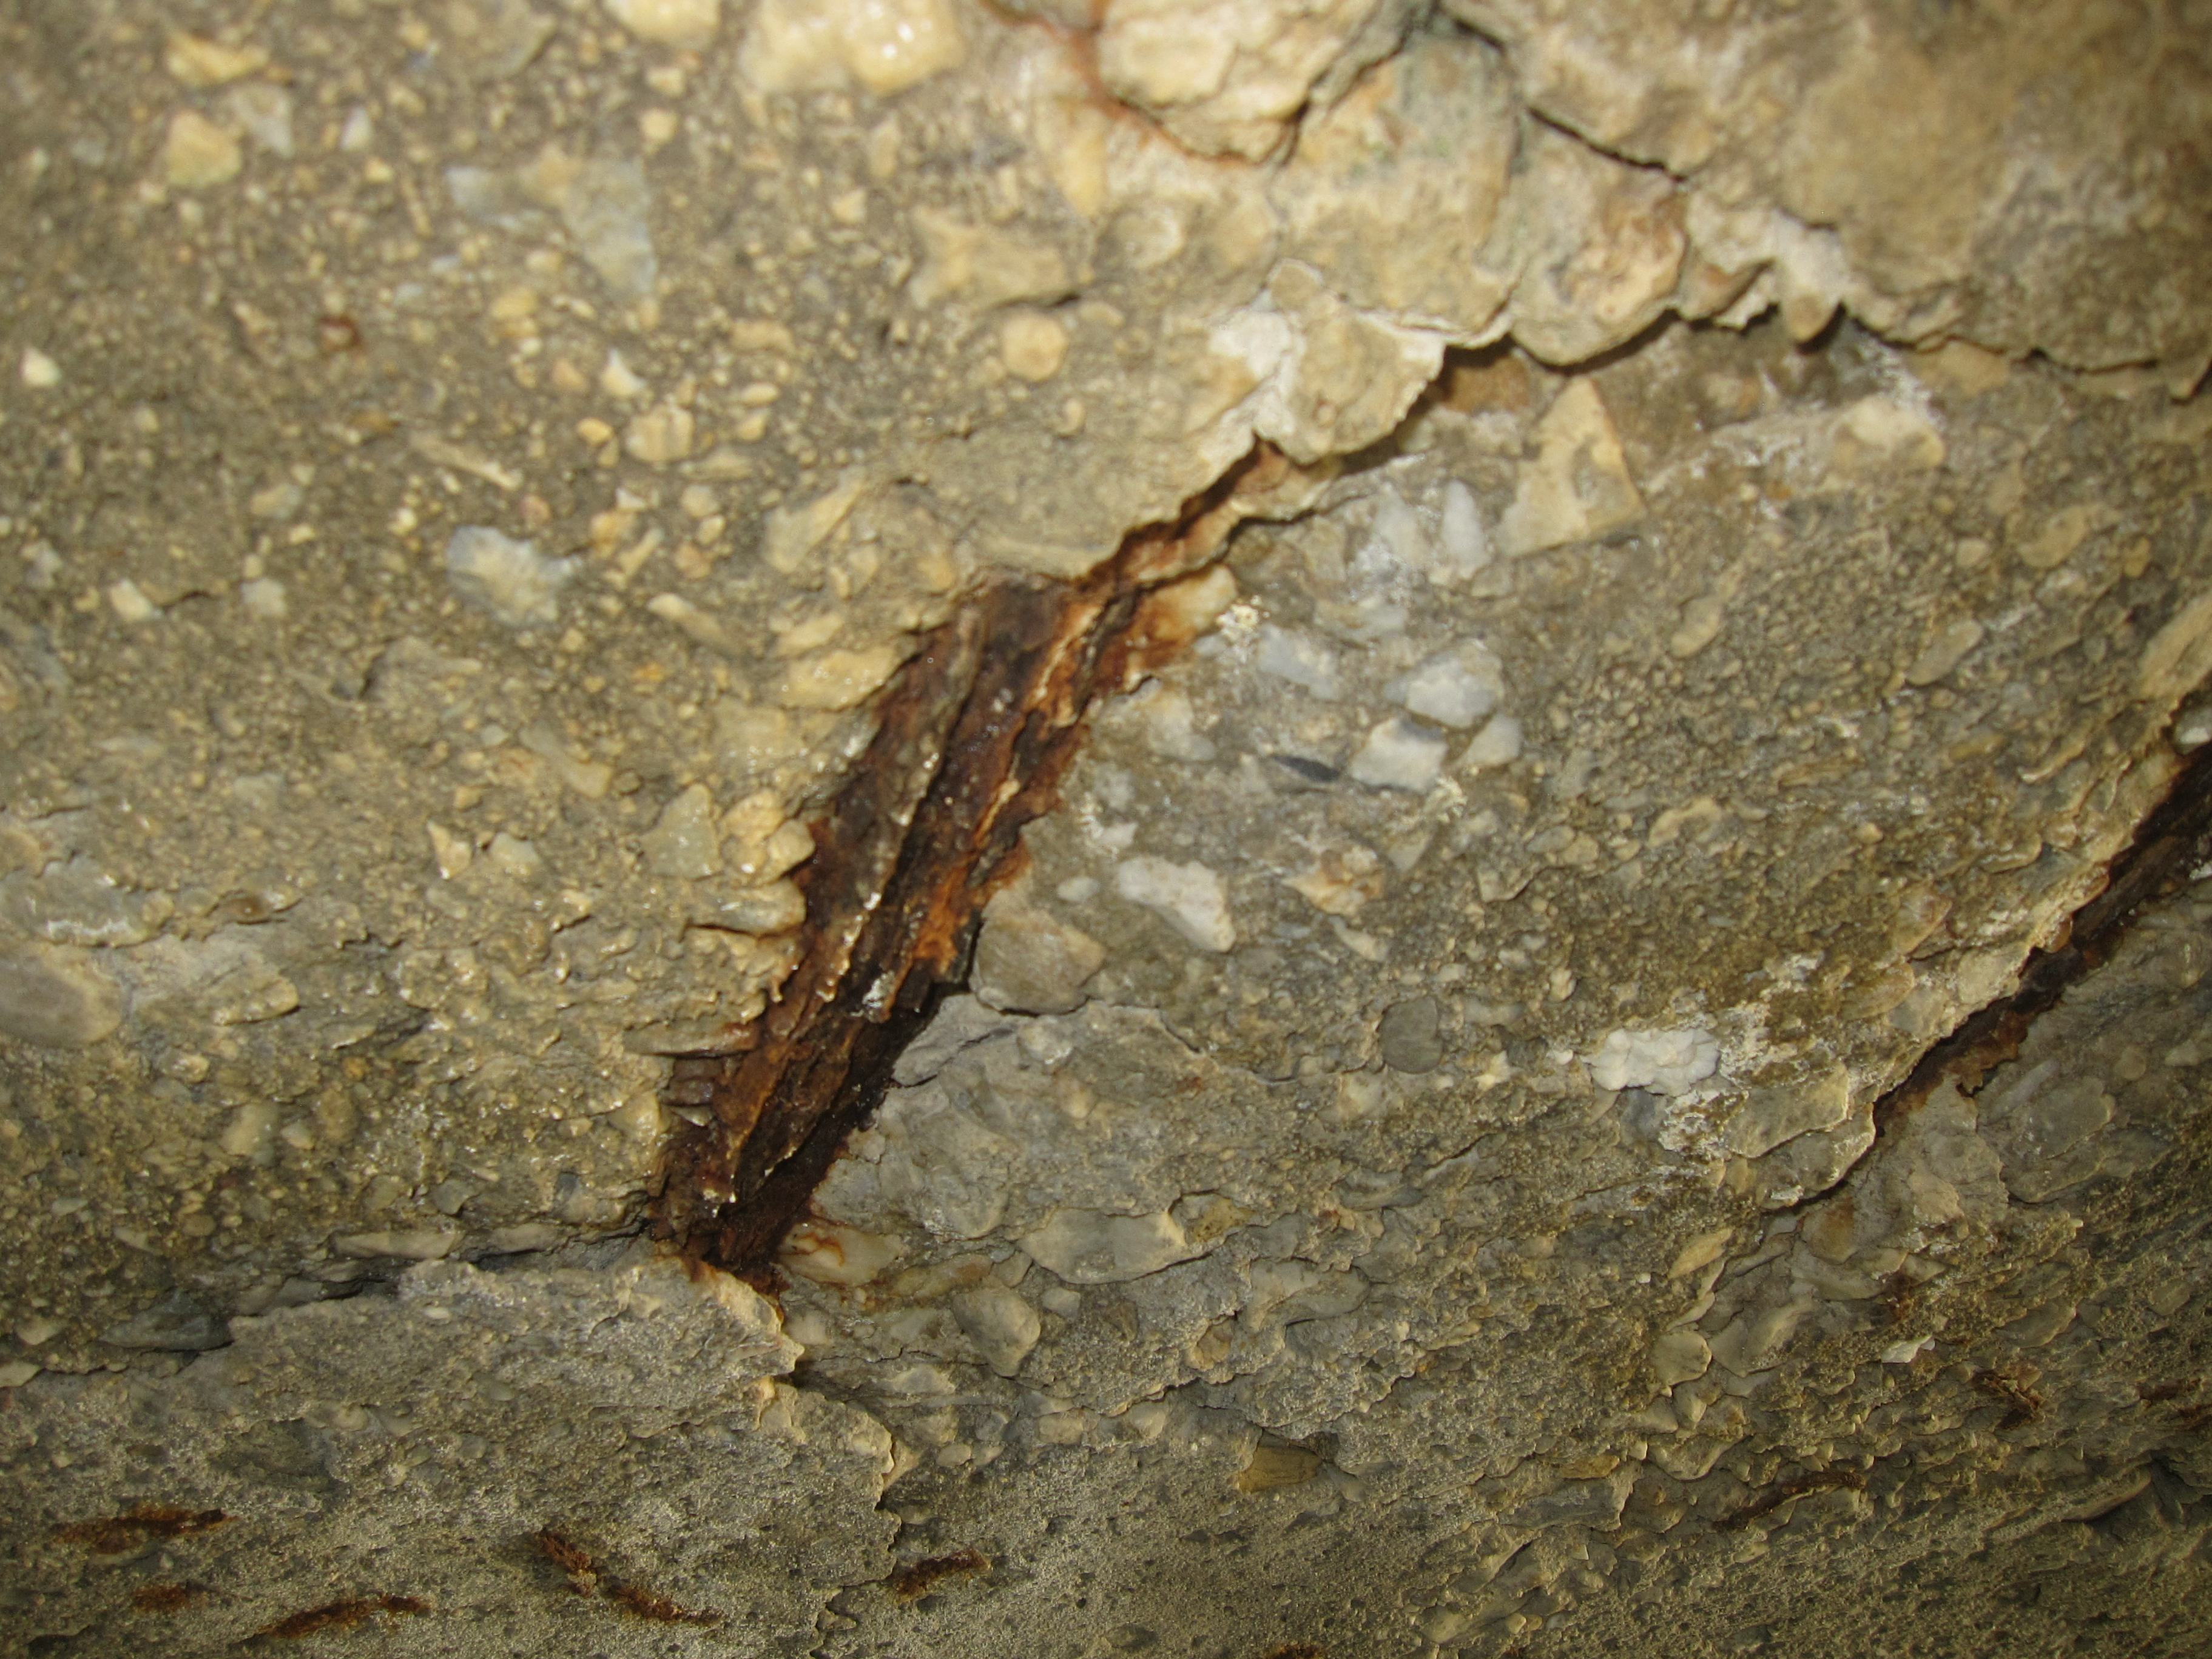Exposed reinforcement: (641, 556, 1171, 1291)
